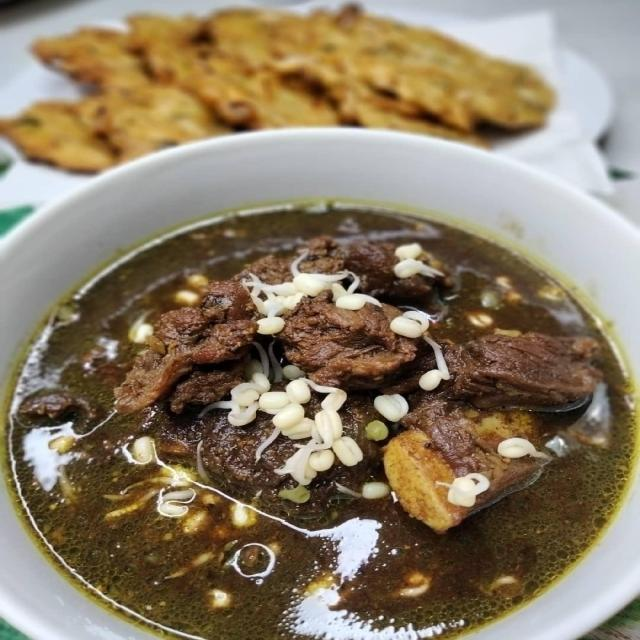Rawon: (50, 217, 593, 625)
